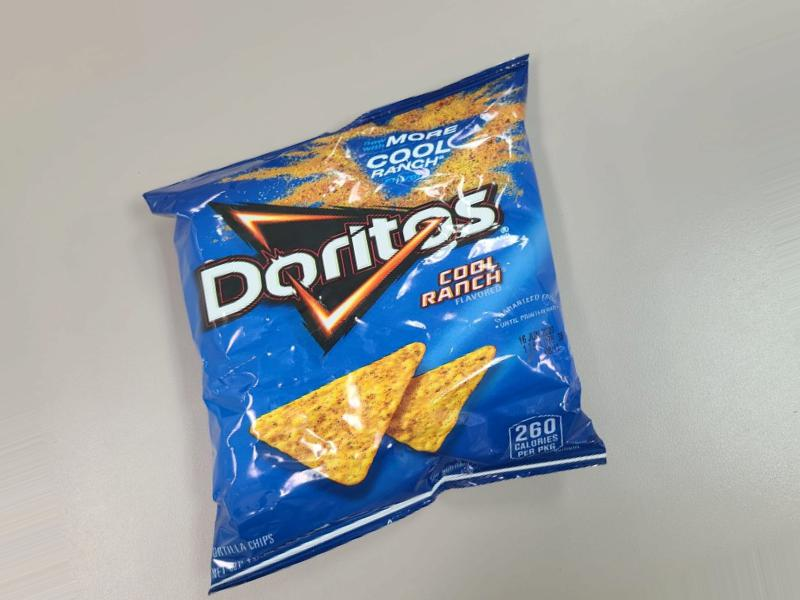doritos: (160, 111, 646, 581)
